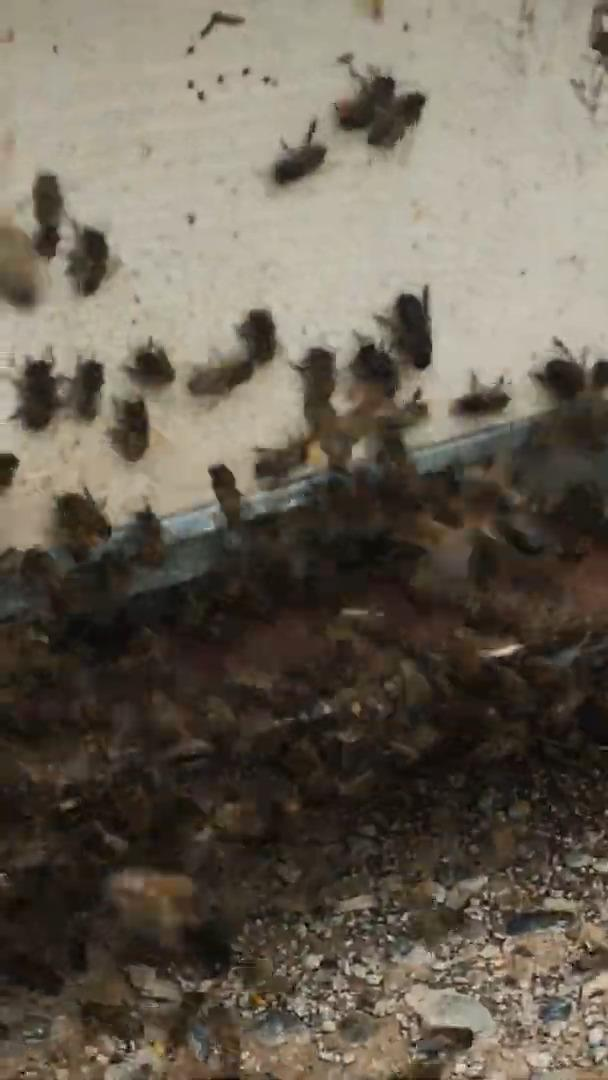worker-bee: (187, 308, 278, 398), (375, 285, 432, 370), (53, 488, 111, 562), (11, 348, 60, 432), (291, 347, 335, 430), (272, 119, 326, 185), (368, 91, 426, 148), (335, 75, 393, 130), (68, 224, 109, 296), (32, 172, 63, 259), (254, 435, 311, 482), (451, 372, 510, 417), (124, 337, 175, 388), (111, 397, 149, 462), (532, 355, 584, 400), (208, 463, 242, 529), (71, 358, 104, 420), (131, 504, 164, 565)
